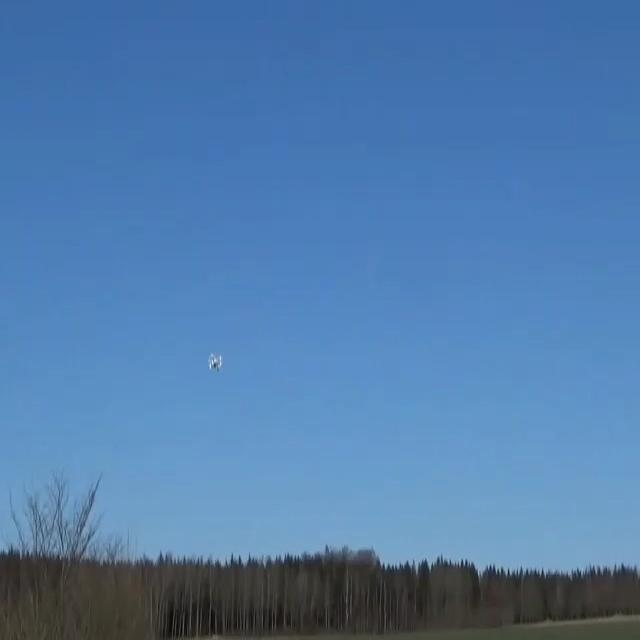drone: (208, 351, 222, 373)
